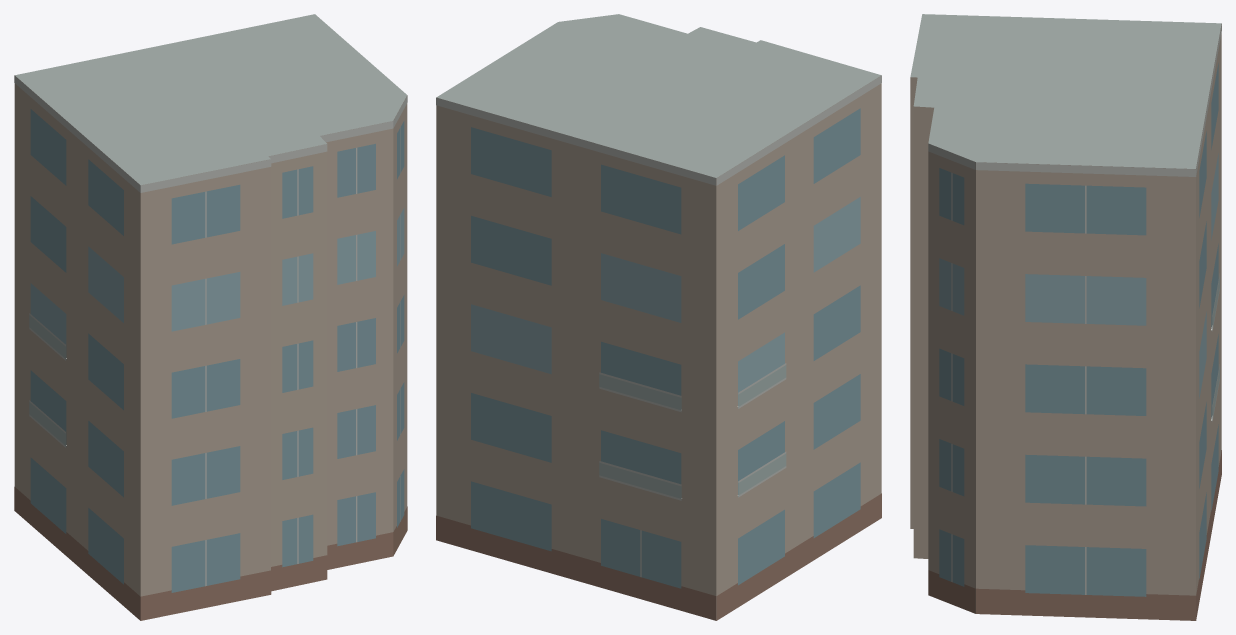
Rendered from survey-upis-32479454.glb.
The picture shows the model from 3 angles, left to right: view 1: azimuth 30°, elevation 25°; view 2: azimuth 150°, elevation 25°; view 3: azimuth 270°, elevation 25°; orthographic projection. The views are drawn at different scales.
Parts seen in each view (by area): view 1: survey-upis-32479454.tmp; view 2: survey-upis-32479454.tmp; view 3: survey-upis-32479454.tmp.
Boxes of the visible parts, bbox=[...] form: survey-upis-32479454.tmp: bbox=[14, 14, 407, 620]; survey-upis-32479454.tmp: bbox=[436, 14, 881, 620]; survey-upis-32479454.tmp: bbox=[910, 14, 1221, 620].
Bounding box in the file's own units: 10.17 × 13.8 × 8.63.
